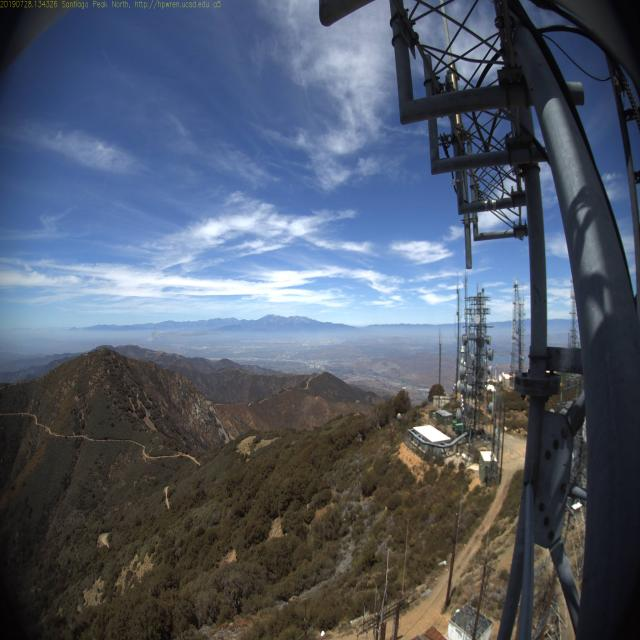smoke: (141, 318, 168, 350)
